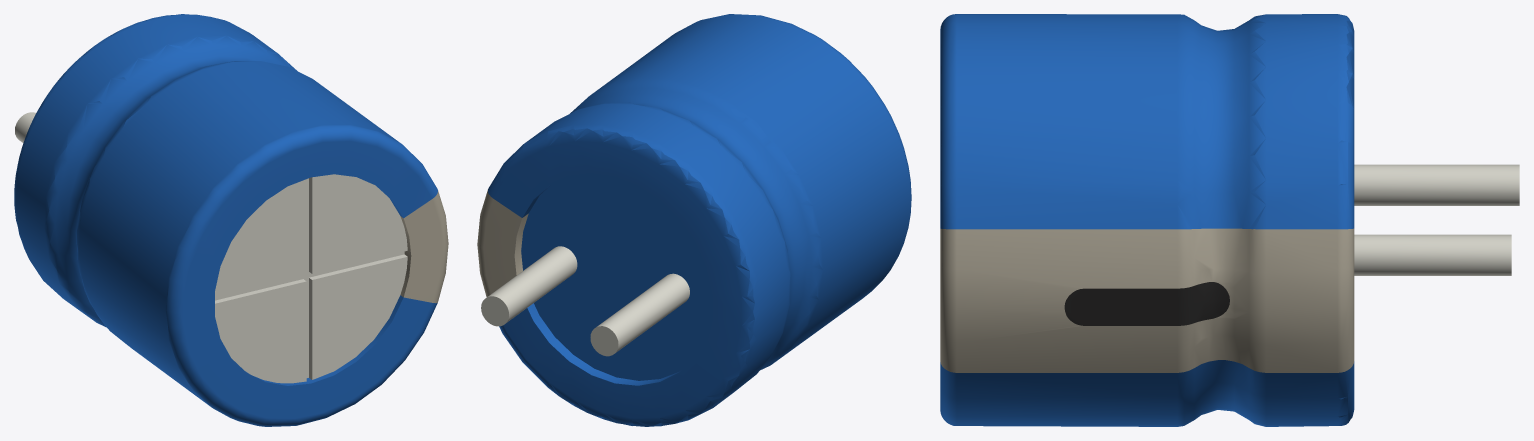
File: cp-radial-d5.0-p2.00.glb
The picture shows the model from 3 angles, left to right: view 1: azimuth 30°, elevation 25°; view 2: azimuth 150°, elevation 25°; view 3: azimuth 270°, elevation 25°; orthographic projection. The views are drawn at different scales.
Parts seen in each view (by area): view 1: PLASTIC-BLUE-01, PIN-01, IC-LABEL-01; view 2: PLASTIC-BLUE-01, PIN-01, IC-LABEL-01; view 3: PLASTIC-BLUE-01, IC-LABEL-01, PIN-01, IC-BODY-EPOXY-04.
Part boxes in pixels (bbox=[...]): PLASTIC-BLUE-01: bbox=[14, 14, 437, 426]; PIN-01: bbox=[15, 112, 407, 383]; IC-LABEL-01: bbox=[400, 190, 448, 303]; PLASTIC-BLUE-01: bbox=[488, 14, 911, 426]; PIN-01: bbox=[481, 246, 689, 356]; IC-LABEL-01: bbox=[477, 190, 528, 296]; PLASTIC-BLUE-01: bbox=[940, 14, 1354, 426]; IC-LABEL-01: bbox=[940, 228, 1354, 372]; PIN-01: bbox=[1354, 164, 1519, 275]; IC-BODY-EPOXY-04: bbox=[1064, 282, 1229, 325].
Size of the model in its own units: 5 by 4.99 by 7.
